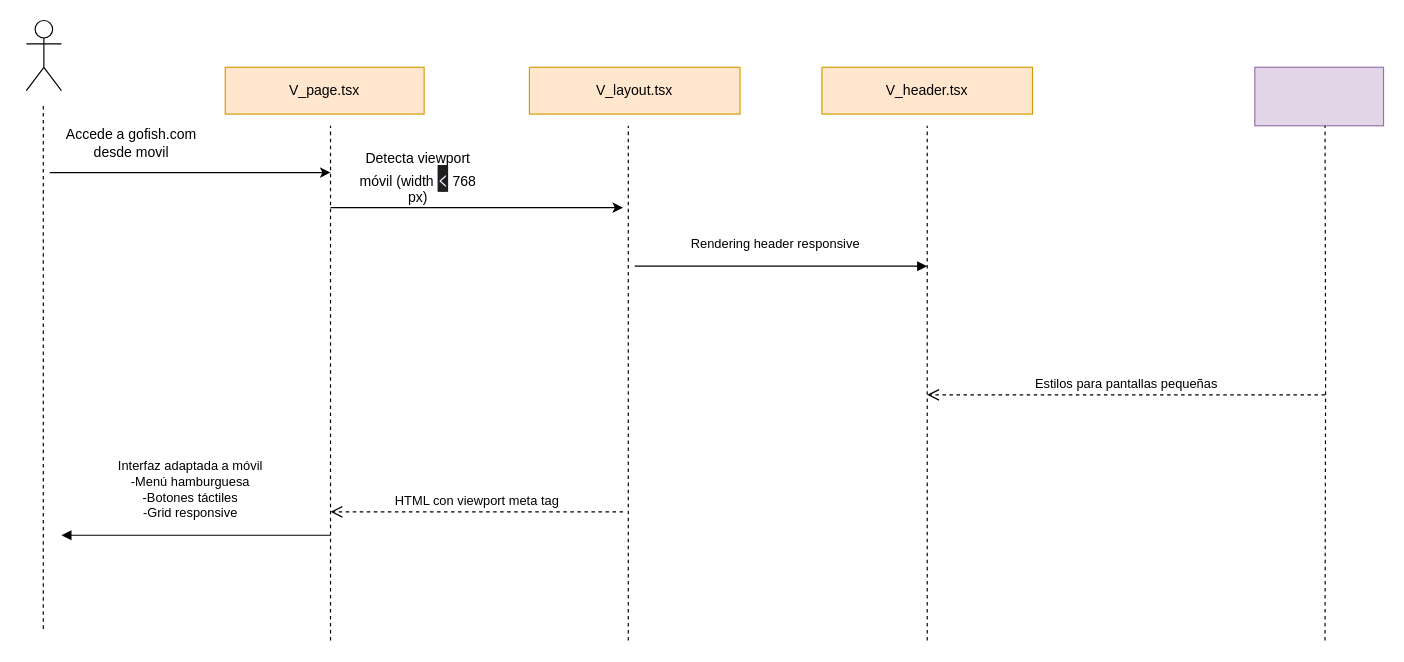
The diagram is 1404 pixels wide and 662 high, and some of its shapes have lost their labels. Here are the shapes that lost their labels. From the top down, the box of each, then its label:
(25, 19, 61, 91): Usuario
(1254, 66, 1384, 126): C_globals.css
